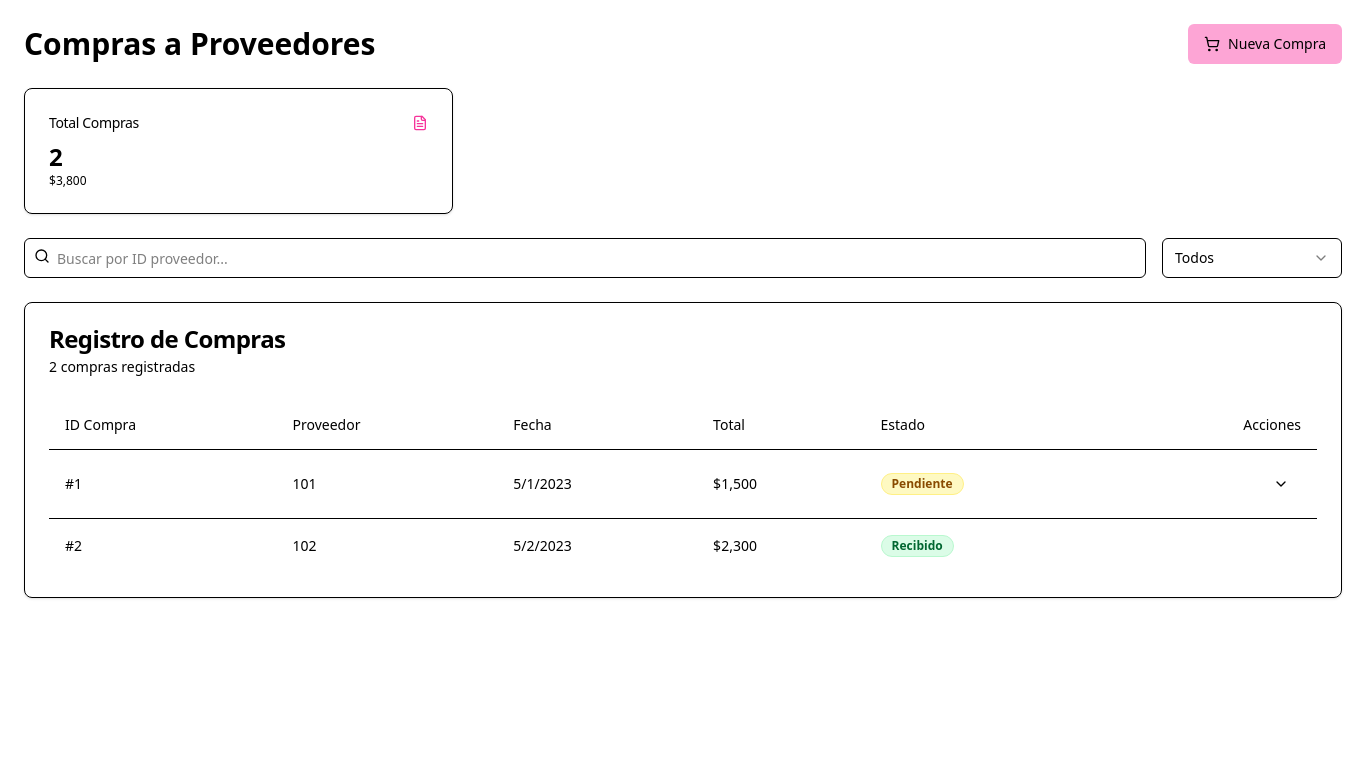
Test: ComprasPage › debe filtrar compras por búsqueda
Check: the text "#1" is shown, box [49, 449, 276, 518]
Note: Buscar por ID de proveedor
Type "101" into the field with placeholder "Buscar por ID proveedor..." at (585, 258), box [24, 238, 1146, 278]
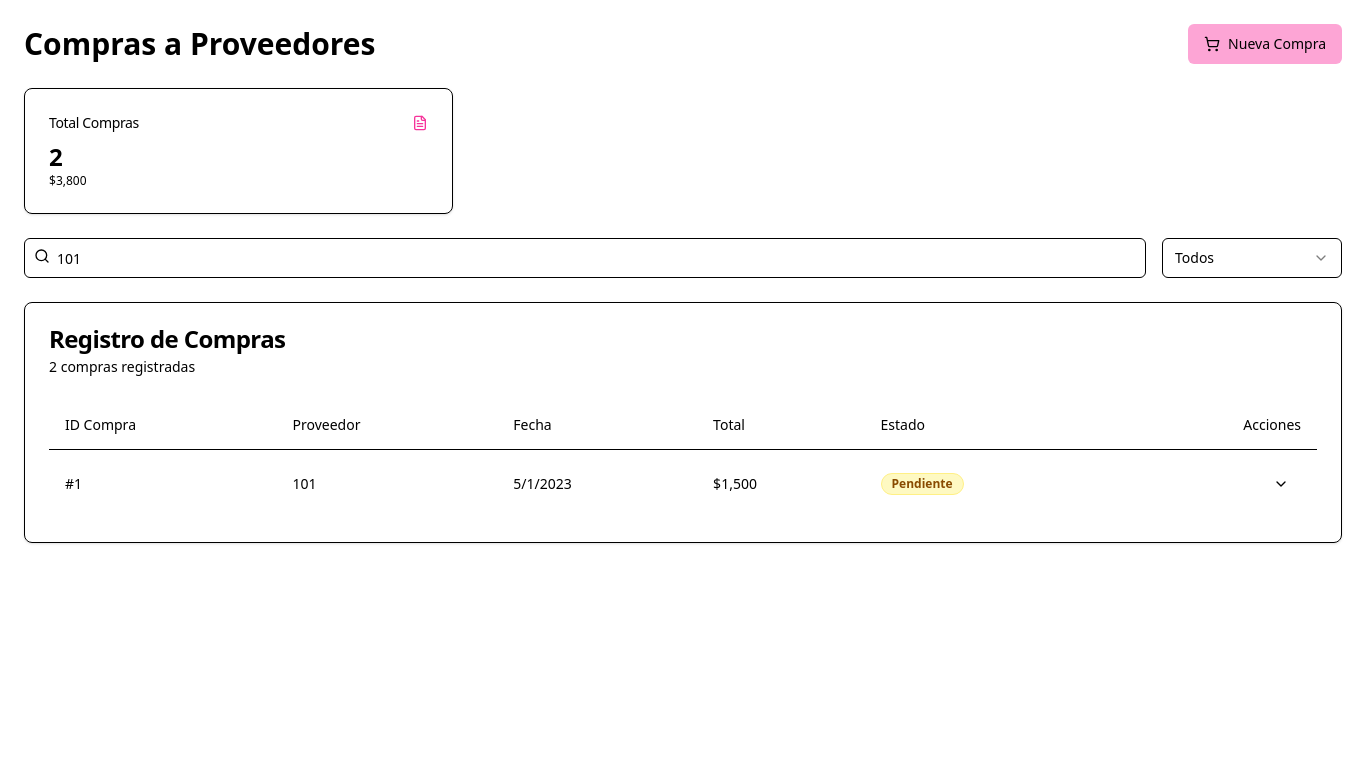
Check: the text "#1" is shown, box [49, 449, 276, 518]
Check: the text "#2" is gone
